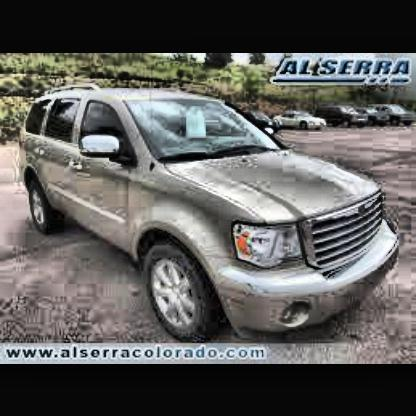Chrysler Aspen SUV 2009: (12, 80, 400, 353)
